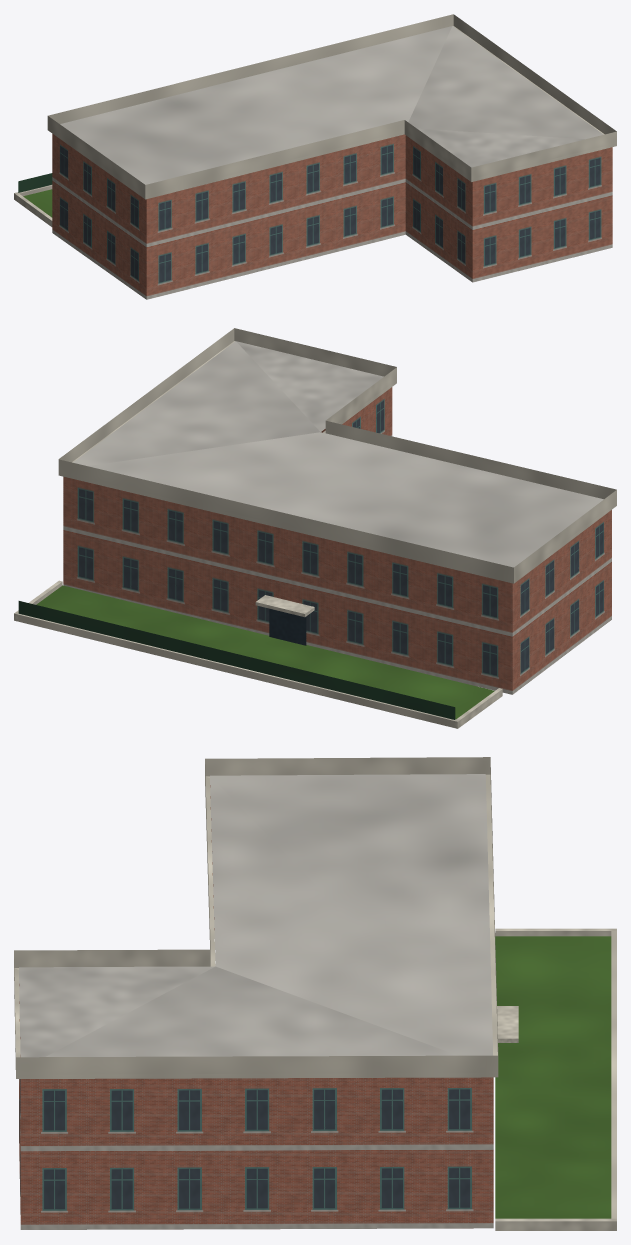
File: SM_MoloItalia_Capitaneria_LOD2.fbx
3 views of the same model, one above another, from view 1: azimuth 30°, elevation 25°; view 2: azimuth 150°, elevation 25°; view 3: azimuth 270°, elevation 25° (orthographic). The views are drawn at different scales.
Parts seen in each view (by area): view 1: SM_MoloItalia_Capitaneria_LOD2; view 2: SM_MoloItalia_Capitaneria_LOD2; view 3: SM_MoloItalia_Capitaneria_LOD2.
Boxes of the visible parts, <box> form: SM_MoloItalia_Capitaneria_LOD2: <box>14,14,616,299</box>; SM_MoloItalia_Capitaneria_LOD2: <box>14,328,616,728</box>; SM_MoloItalia_Capitaneria_LOD2: <box>14,757,616,1230</box>.
Bounding box in the file's own units: 3681 × 3125 × 1000.
Materials: 2 (2 with a texture image).
